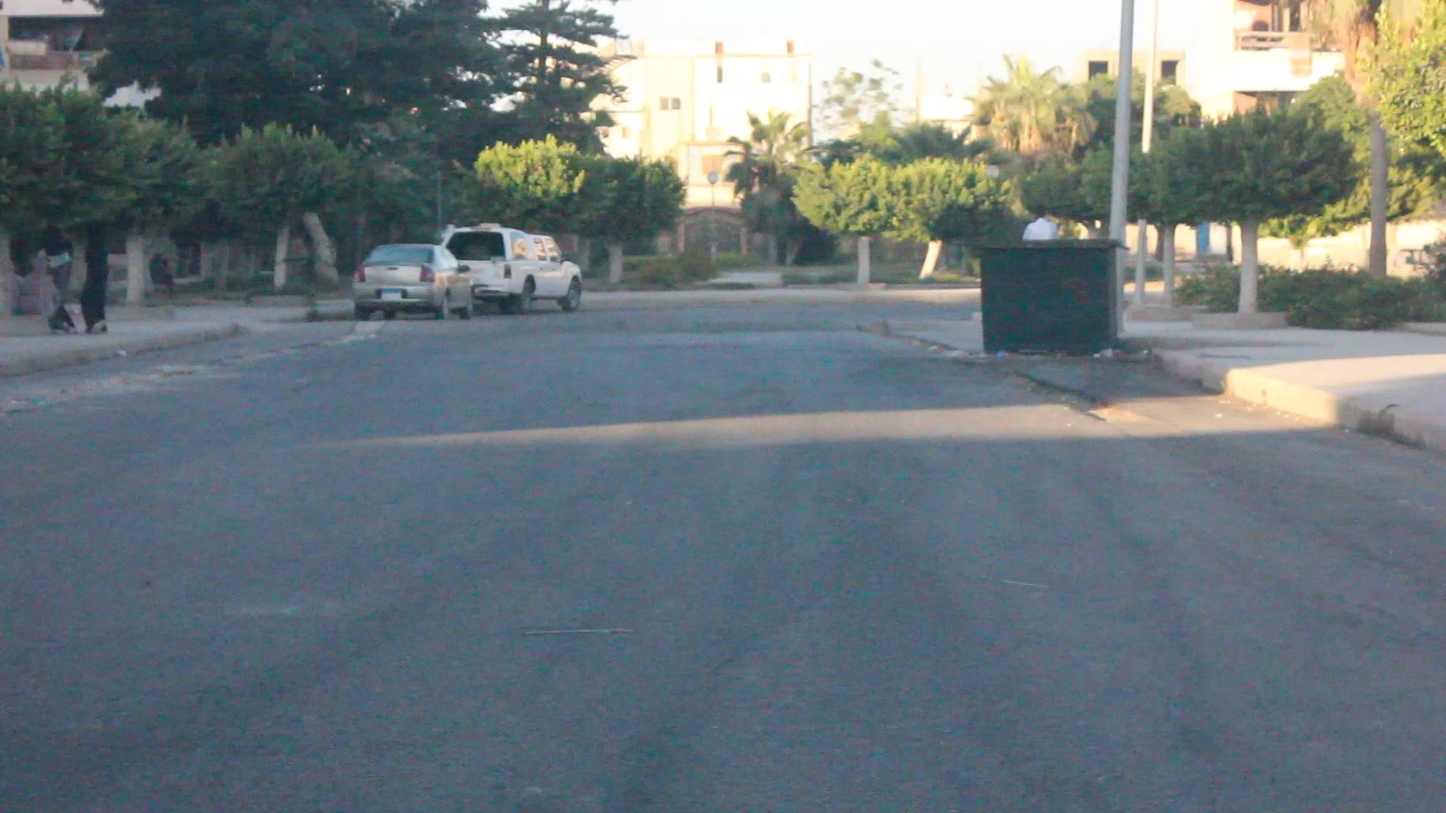Bump: (346, 314, 883, 335)
